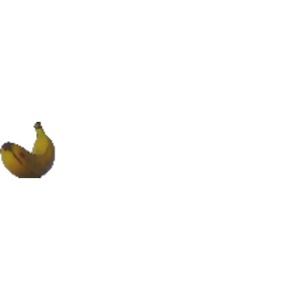banana: (1, 120, 61, 185)
